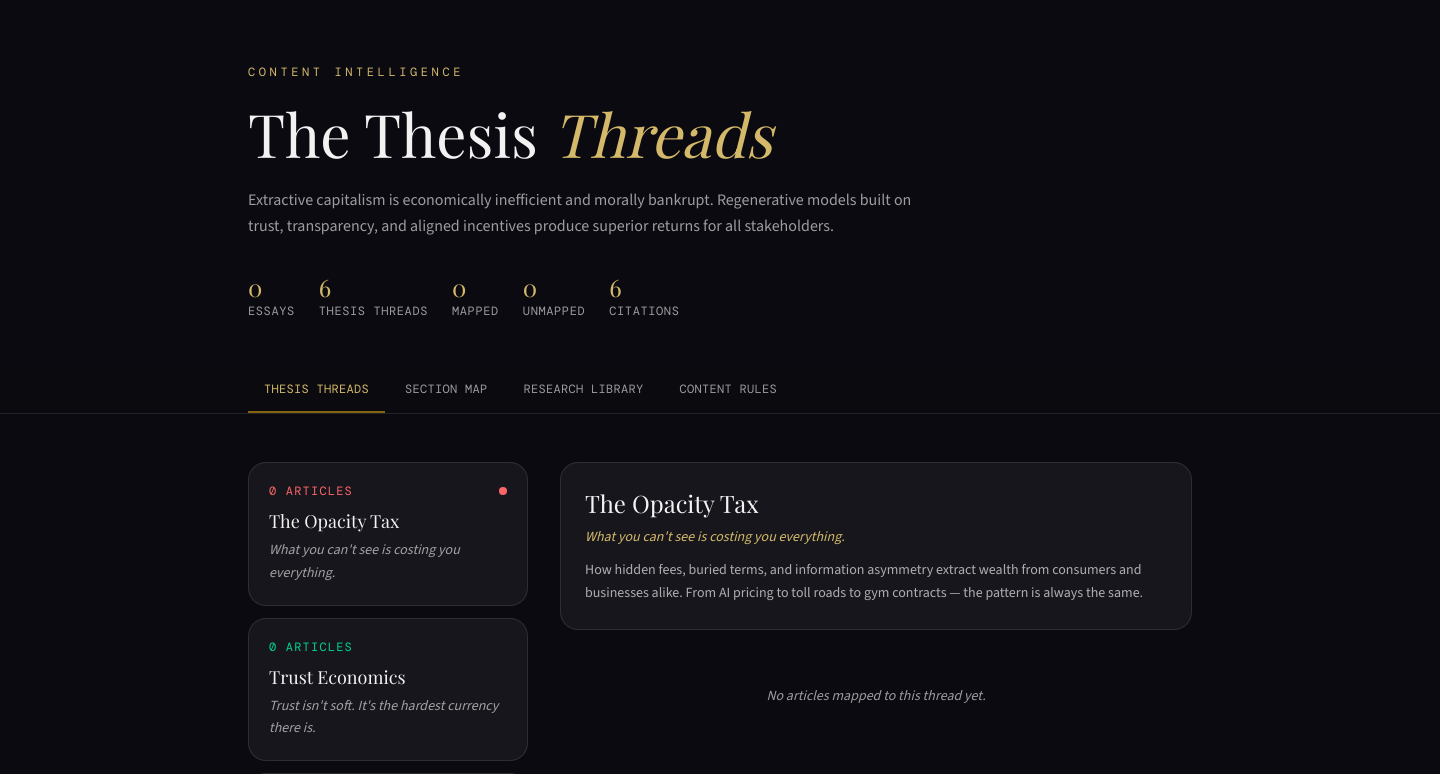
Test: ThesisThreadsExplorer › says when a thread has no published essays
Expected: the text "No articles mapped to this thread yet." is shown, top-left (766, 686), bottom-right (986, 704)
Click the button "Content Rules" at (728, 390), box top-left (664, 367), bottom-right (793, 413)
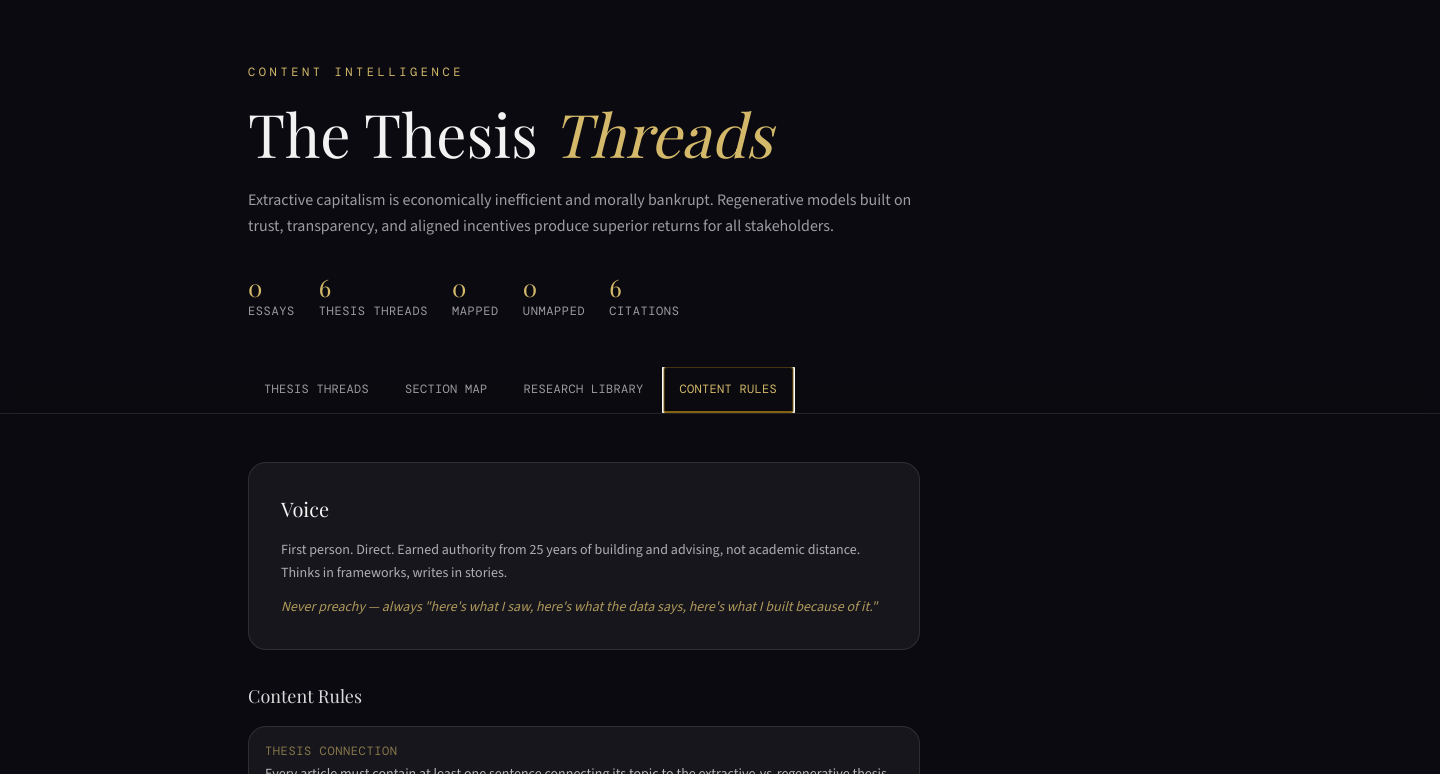
Click the button "Research Library" at (584, 390), box top-left (508, 367), bottom-right (660, 413)
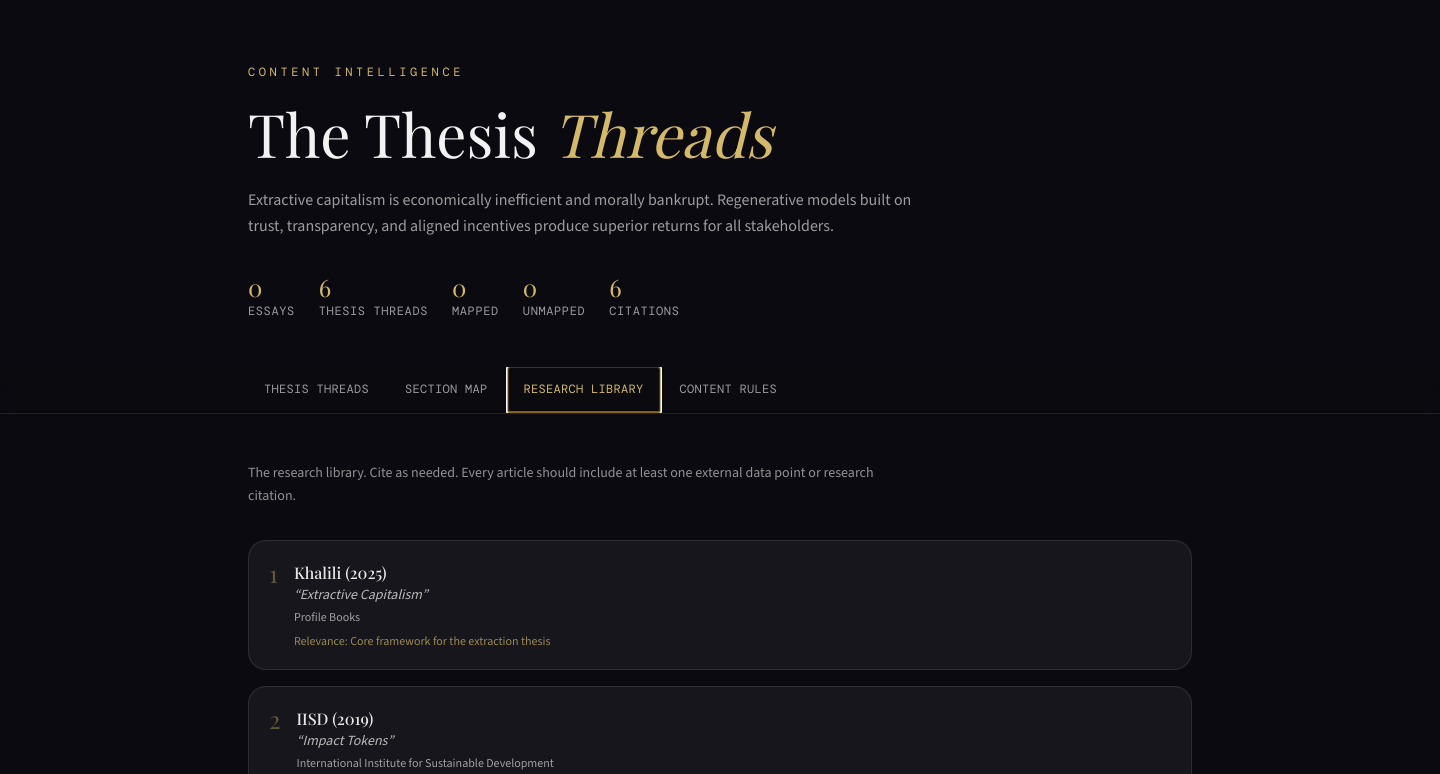
Click the button "Section Map" at (446, 390), box top-left (389, 367), bottom-right (504, 413)
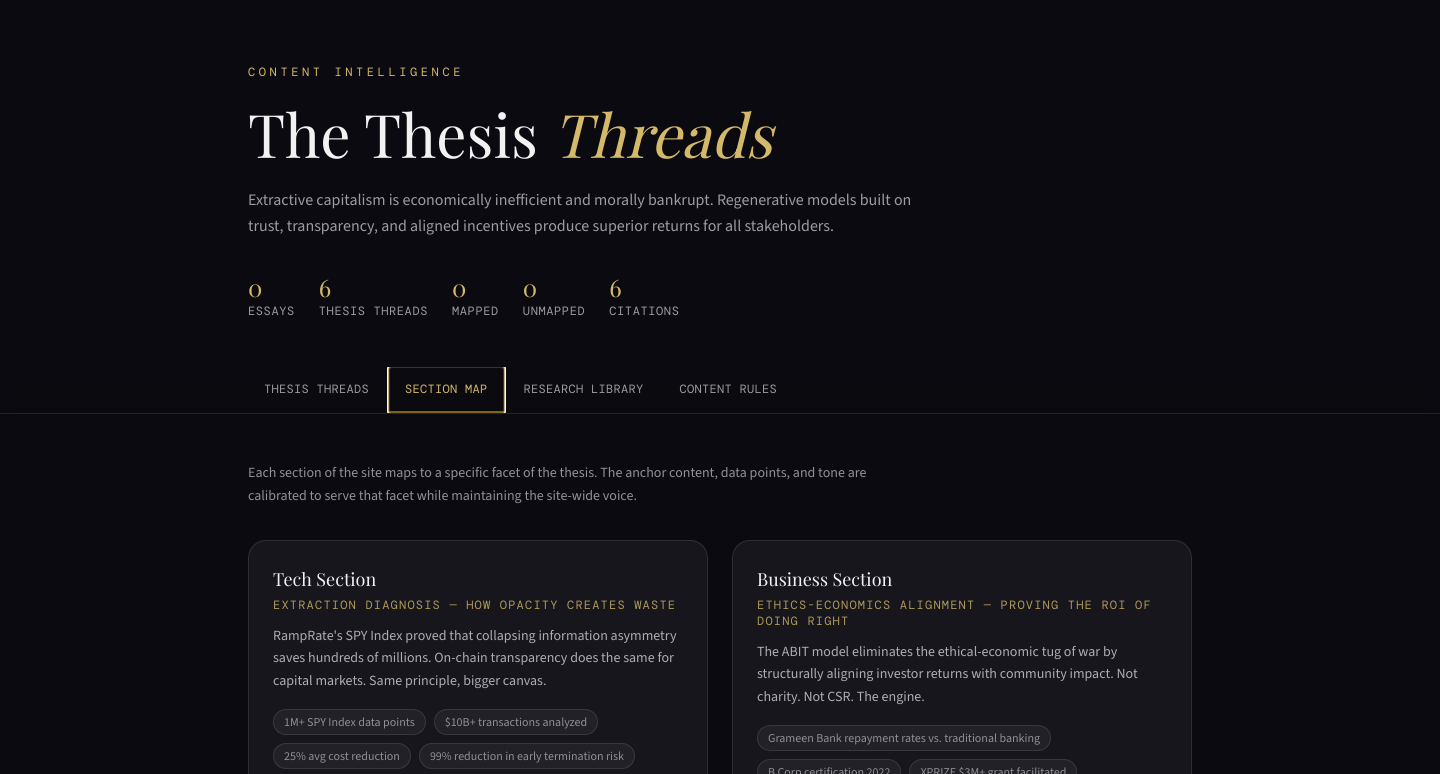
Now the heading "Tech Section" is shown, box top-left (273, 566), bottom-right (376, 590)
